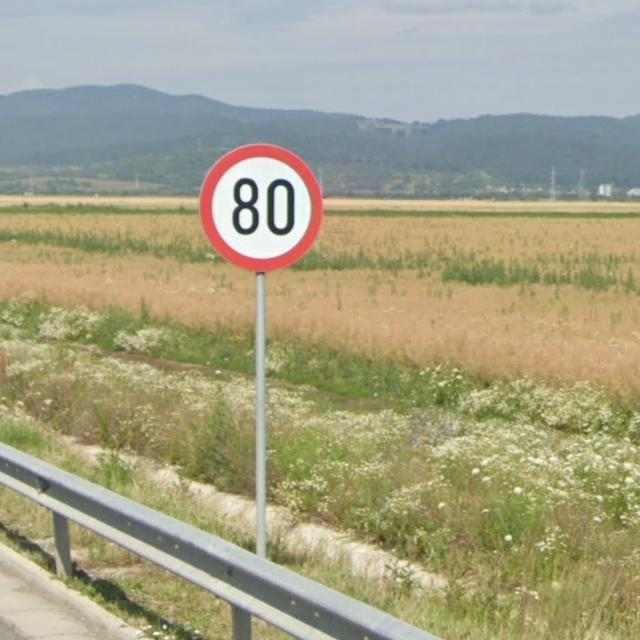forb_speed_over_80: (200, 142, 326, 275)
